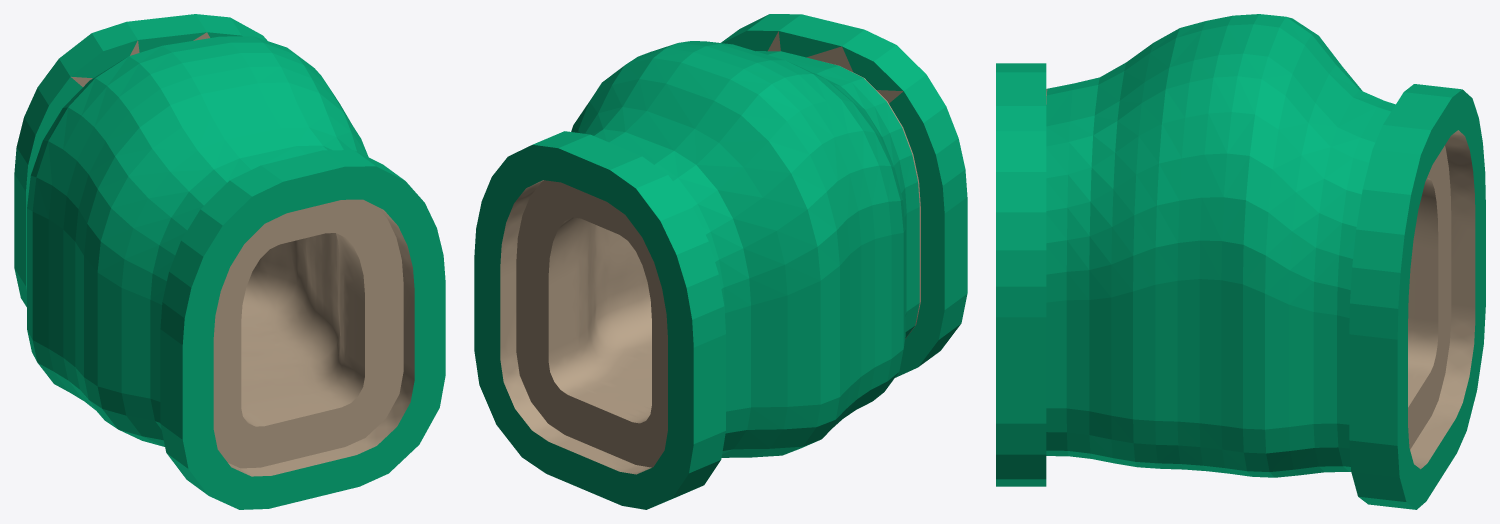
3 views of the same model, side by side, from view 1: azimuth 30°, elevation 25°; view 2: azimuth 150°, elevation 25°; view 3: azimuth 270°, elevation 25° (orthographic). The views are drawn at different scales.
Visible parts, largest first — view 1: TT_Curve_15_C_LOD0; view 2: TT_Curve_15_C_LOD0; view 3: TT_Curve_15_C_LOD0.
Part boxes in pixels (x1,y1,x2,y2): TT_Curve_15_C_LOD0: [14, 14, 445, 509]; TT_Curve_15_C_LOD0: [474, 14, 967, 509]; TT_Curve_15_C_LOD0: [996, 14, 1485, 509].
Size of the model in its own units: 409 by 455 by 489.
